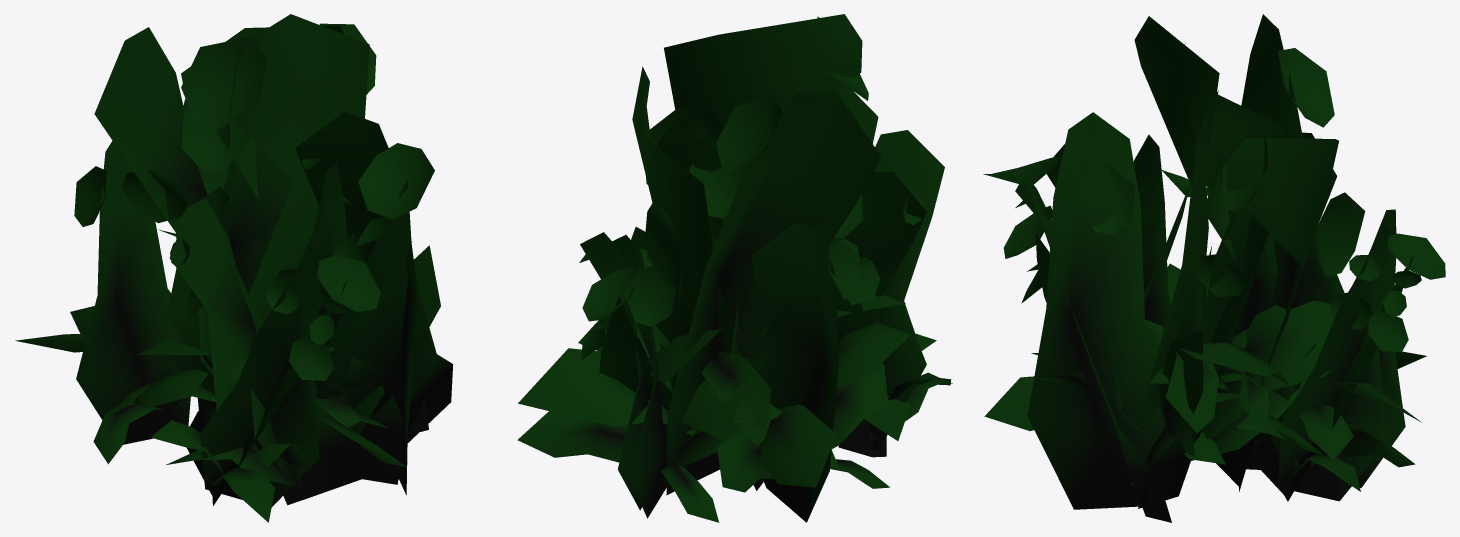
Rendered from FlowersDlionGCATA_G.fbx.
3 views of the same model, side by side, from view 1: azimuth 30°, elevation 25°; view 2: azimuth 150°, elevation 25°; view 3: azimuth 270°, elevation 25° (orthographic). The views are drawn at different scales.
Parts seen in each view (by area): view 1: FDGCATAG_LOD0; view 2: FDGCATAG_LOD0; view 3: FDGCATAG_LOD0.
Boxes of the visible parts, <box> form: FDGCATAG_LOD0: <box>15,14,453,522</box>; FDGCATAG_LOD0: <box>517,14,952,522</box>; FDGCATAG_LOD0: <box>983,14,1445,522</box>.
Size of what is drawn, in the model's own units: 0.4432 by 0.5936 by 0.5721.
